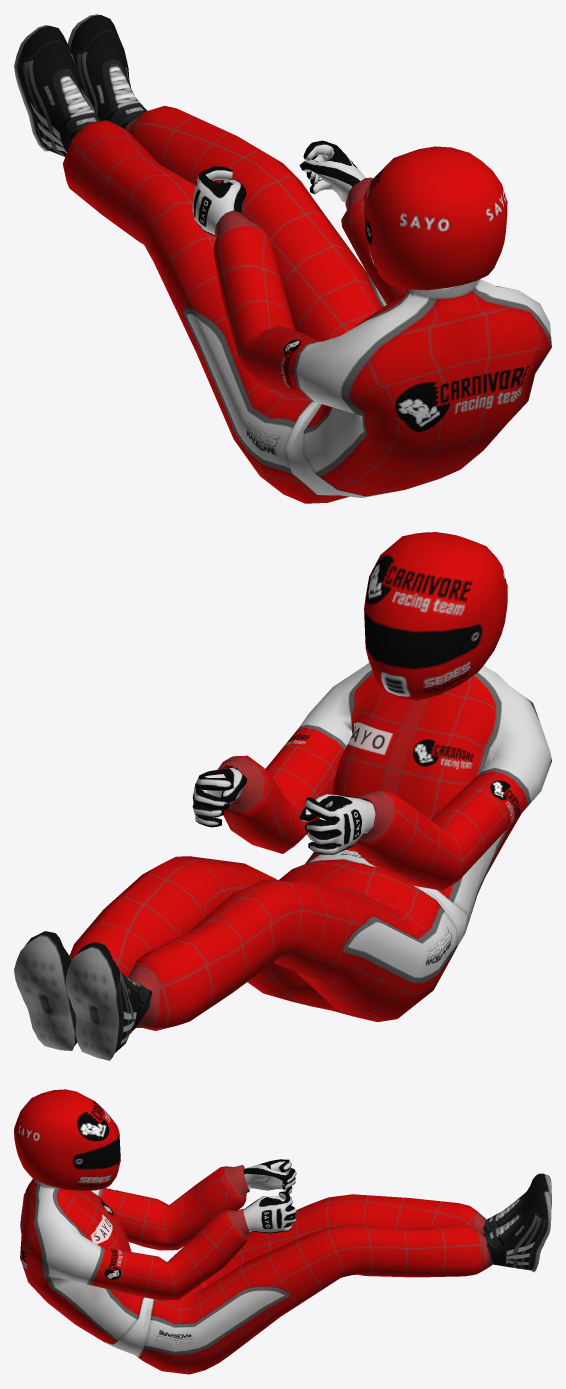
File: RC Pilot in the car V01 FREE.FBX
The picture shows the model from 3 angles, top to bottom: view 1: azimuth 30°, elevation 25°; view 2: azimuth 150°, elevation 25°; view 3: azimuth 270°, elevation 25°; orthographic projection. The views are drawn at different scales.
Parts seen in each view (by area): view 1: RC Pilot V01 FREE, RC Pilot Helmet V01 FREE; view 2: RC Pilot V01 FREE, RC Pilot Helmet V01 FREE; view 3: RC Pilot V01 FREE, RC Pilot Helmet V01 FREE.
Part boxes in pixels (left/top/right/bottom): RC Pilot V01 FREE: left=14, top=14, right=551, bottom=503; RC Pilot Helmet V01 FREE: left=364, top=146, right=507, bottom=290; RC Pilot V01 FREE: left=14, top=663, right=551, bottom=1060; RC Pilot Helmet V01 FREE: left=364, top=532, right=507, bottom=700; RC Pilot V01 FREE: left=20, top=1159, right=551, bottom=1374; RC Pilot Helmet V01 FREE: left=14, top=1089, right=120, bottom=1190.
Bounding box in the file's own units: 0.4184 × 0.6777 × 1.26.
